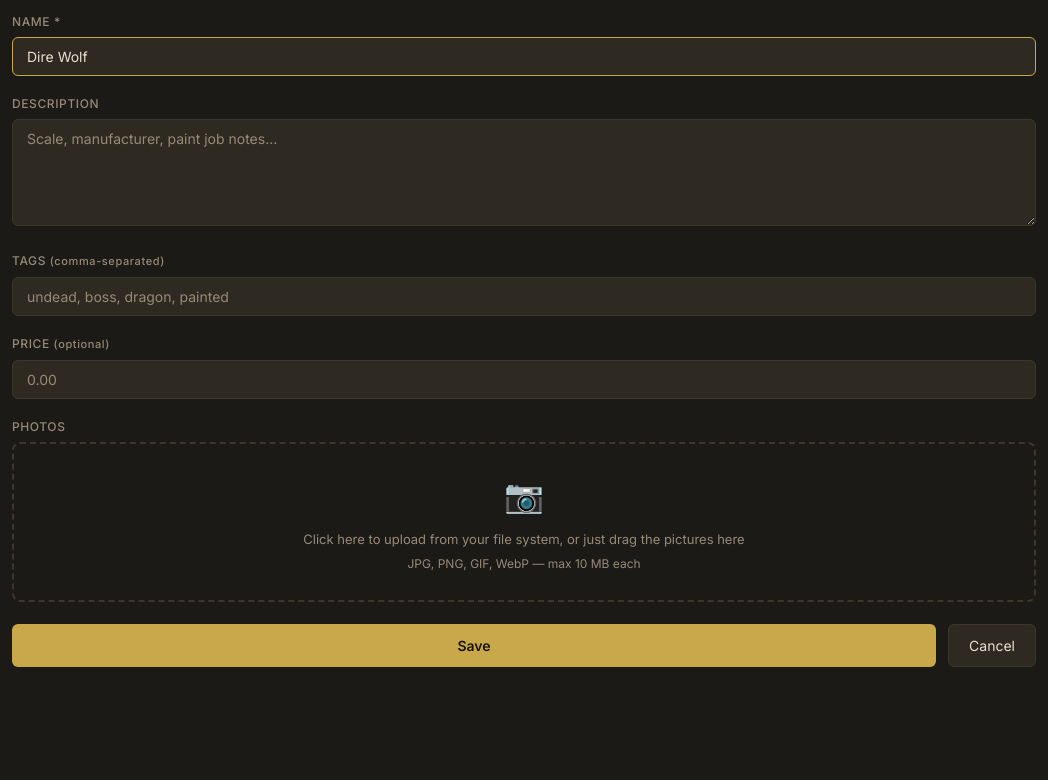
Test: MiniForm › shows the submitting label and blocks double submits while saving
The width and height of the screenshot is (1048, 780).
Click the button "Save" at [474, 645], box left=12, top=624, right=936, bottom=667
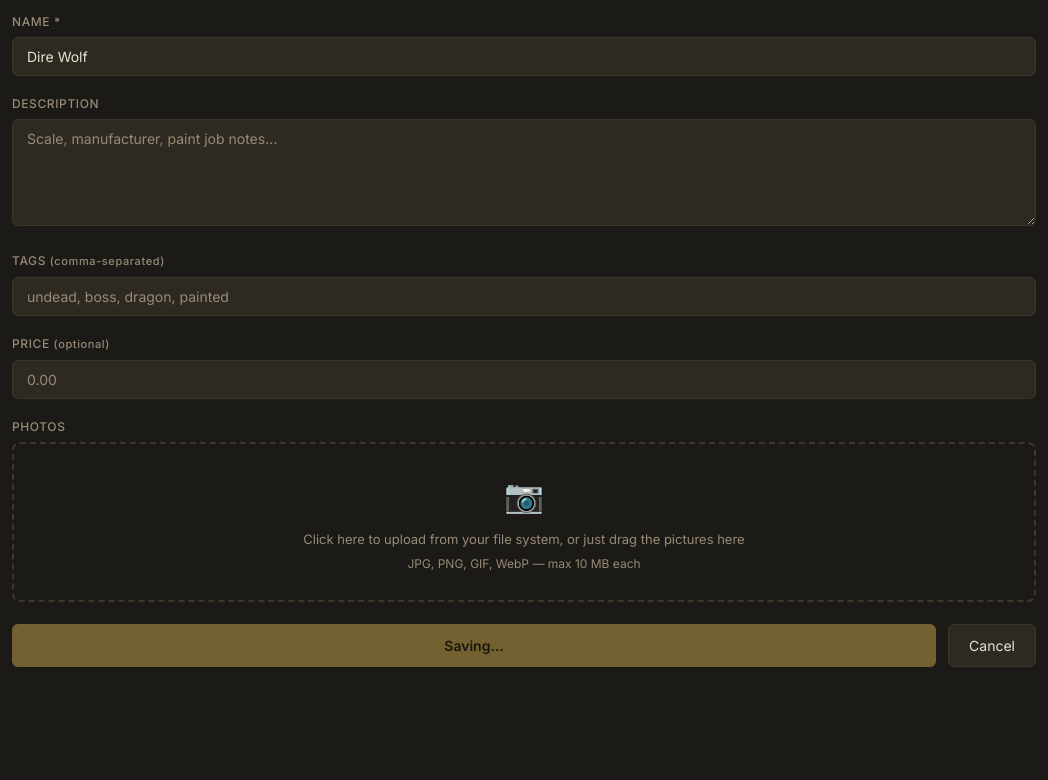
Result: the button "Saving…" is disabled
Click the button "Saving…" at [474, 645], box left=12, top=624, right=936, bottom=667
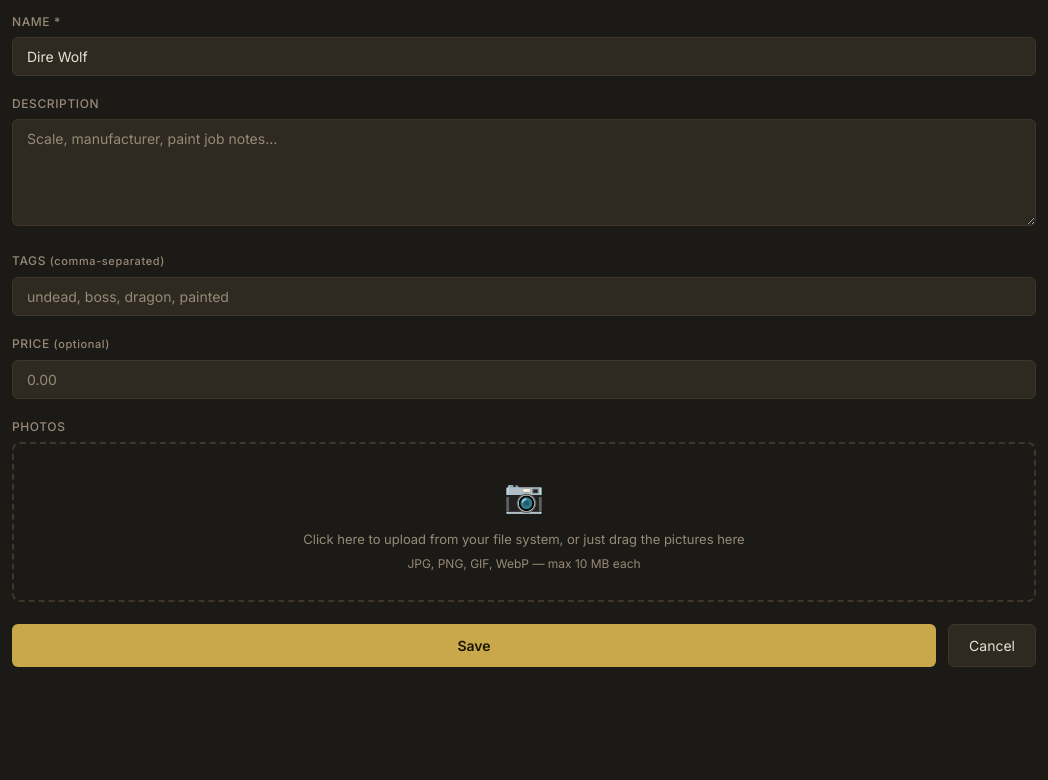
Result: the button "Save" is enabled at left=12, top=624, right=936, bottom=667
